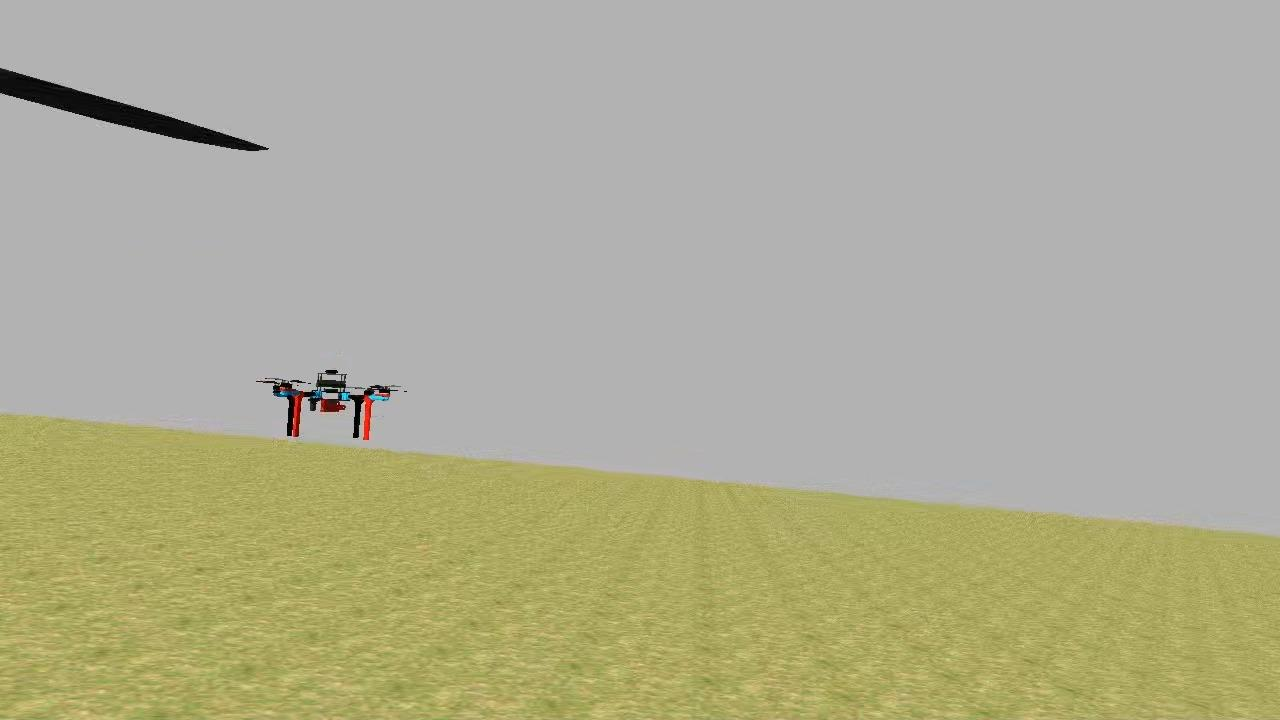UAV: (266, 364, 398, 446)
